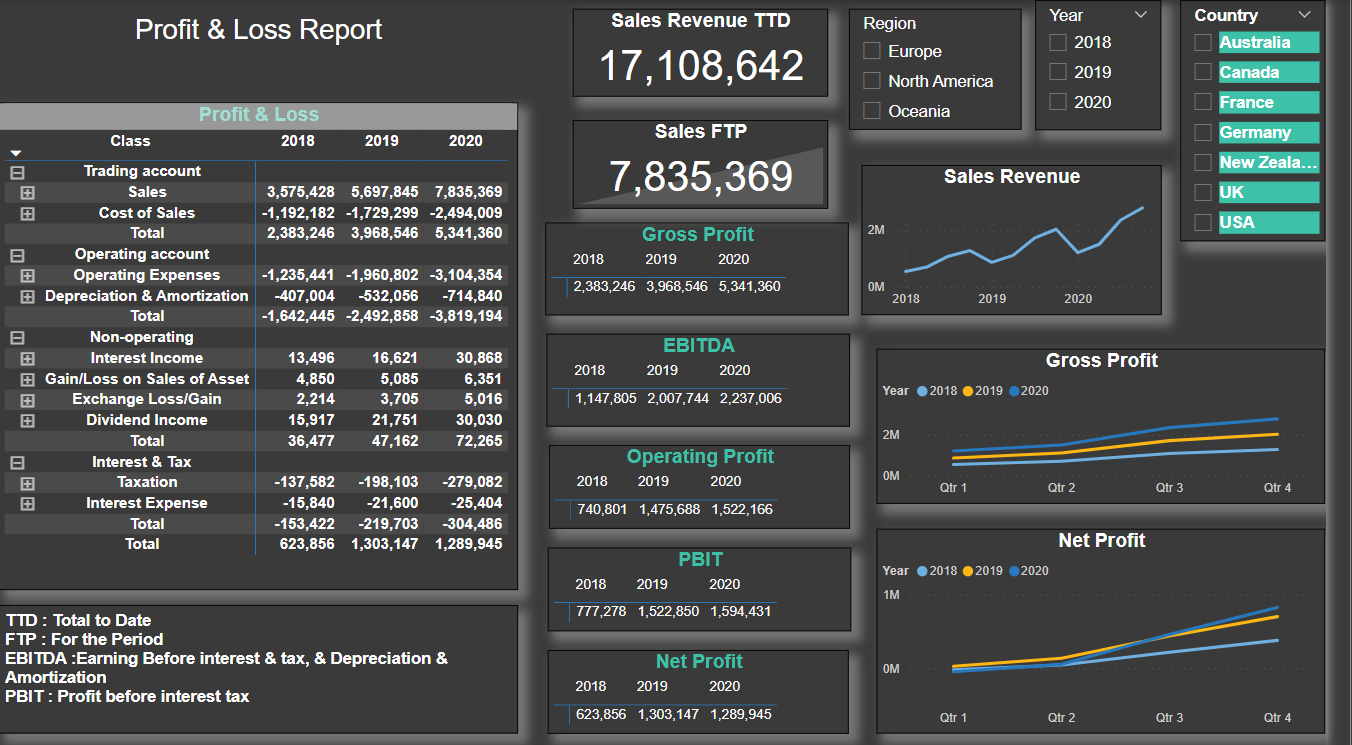

The dashboard page shown, as its layout file describes it:
{"tool":"powerbi","page":{"name":"P&L","canvas":[1280,720],"ordinal":1},"visuals":[{"type":"pivotTable","title":"Profit & Loss","fields":{"Rows":["tbl_ChartofAccounts.Class","tbl_ChartofAccounts.SubClass","tbl_ChartofAccounts.SubClass2","tbl_ChartofAccounts.Account"],"Columns":["tbl_Calendar.Date.Variation.Date Hierarchy.Year","tbl_Calendar.Date.Variation.Date Hierarchy.Quarter","tbl_Calendar.Date.Variation.Date Hierarchy.Month","tbl_Calendar.Date.Variation.Date Hierarchy.Day"],"Values":["All Measures.Total Amount by P&L"]},"box":[0,98.9,500.5,470.4],"z":0},{"type":"slicer","fields":{"Values":["tbl_territory.Country"]},"box":[1139.3,0,139.8,233.1],"z":1000},{"type":"slicer","fields":{"Values":["tbl_territory.Region"]},"box":[820.1,8.4,166.4,117],"z":2000},{"type":"pivotTable","title":"Gross Profit","fields":{"Values":["All Measures.Total Amount"],"Columns":["tbl_Calendar.Date.Variation.Date Hierarchy.Year","tbl_Calendar.Date.Variation.Date Hierarchy.Quarter","tbl_Calendar.Date.Variation.Date Hierarchy.Month","tbl_Calendar.Date.Variation.Date Hierarchy.Day"]},"box":[527,214.7,293.1,89.2],"z":3000},{"type":"pivotTable","title":"Operating Profit","fields":{"Values":["All Measures.Total Amount"],"Columns":["tbl_Calendar.Date.Variation.Date Hierarchy.Year","tbl_Calendar.Date.Variation.Date Hierarchy.Quarter","tbl_Calendar.Date.Variation.Date Hierarchy.Month","tbl_Calendar.Date.Variation.Date Hierarchy.Day"]},"box":[530.7,429.3,290.7,80.8],"z":4000},{"type":"pivotTable","title":"PBIT","fields":{"Values":["All Measures.Total Amount"],"Columns":["tbl_Calendar.Date.Variation.Date Hierarchy.Year","tbl_Calendar.Date.Variation.Date Hierarchy.Quarter","tbl_Calendar.Date.Variation.Date Hierarchy.Month","tbl_Calendar.Date.Variation.Date Hierarchy.Day"]},"box":[529.4,528.2,293.1,80.8],"z":5000},{"type":"pivotTable","title":"Net Profit","fields":{"Values":["All Measures.Total Amount"],"Columns":["tbl_Calendar.Date.Variation.Date Hierarchy.Year","tbl_Calendar.Date.Variation.Date Hierarchy.Quarter","tbl_Calendar.Date.Variation.Date Hierarchy.Month","tbl_Calendar.Date.Variation.Date Hierarchy.Day"]},"box":[529.4,627.1,290.7,80.8],"z":6000},{"type":"pivotTable","title":"EBITDA","fields":{"Values":["All Measures.Total Amount"],"Columns":["tbl_Calendar.Date.Variation.Date Hierarchy.Year","tbl_Calendar.Date.Variation.Date Hierarchy.Quarter","tbl_Calendar.Date.Variation.Date Hierarchy.Month","tbl_Calendar.Date.Variation.Date Hierarchy.Day"]},"box":[528.2,322,293.1,89.2],"z":7000},{"type":"card","title":"Sales Revenue TTD","fields":{"Values":["All Measures.Total sales by Sales"]},"box":[553.6,8.4,246,84.4],"z":8000},{"type":"kpi","title":"Sales FTP ","fields":{"Indicator":["All Measures.Total sales by Sales"],"TrendLine":["tbl_Calendar.Date.Variation.Date Hierarchy.Year"]},"box":[553.6,115.8,246,85.6],"z":9000},{"type":"slicer","fields":{"Values":["tbl_Calendar.Year"]},"box":[999.8,0,121.8,125.4],"z":10000},{"type":"lineChart","title":"Sales Revenue","fields":{"Category":["tbl_Calendar.Date.Variation.Date Hierarchy.Year","tbl_Calendar.Date.Variation.Date Hierarchy.Quarter","tbl_Calendar.Date.Variation.Date Hierarchy.Month","tbl_Calendar.Date.Variation.Date Hierarchy.Day"],"Y":["All Measures.Total sales by Sales"]},"box":[832.2,159.2,289.4,144.7],"z":11000},{"type":"lineChart","title":"Gross Profit","fields":{"Category":["tbl_Calendar.Date.Variation.Date Hierarchy.Quarter","tbl_Calendar.Date.Variation.Date Hierarchy.Month","tbl_Calendar.Date.Variation.Date Hierarchy.Day"],"Y":["All Measures.Total sales by Sales"],"Series":["tbl_Calendar.Date.Variation.Date Hierarchy.Year"]},"box":[846.6,336.5,433,149.5],"z":12000},{"type":"lineChart","title":"Net Profit","fields":{"Category":["tbl_Calendar.Date.Variation.Date Hierarchy.Year","tbl_Calendar.Date.Variation.Date Hierarchy.Quarter","tbl_Calendar.Date.Variation.Date Hierarchy.Month","tbl_Calendar.Date.Variation.Date Hierarchy.Day"],"Y":["All Measures.Total Amount"],"Series":["tbl_Calendar.Date.Variation.Date Hierarchy.Year"]},"box":[846.6,510.2,433,197.8],"z":13000},{"type":"textbox","box":[0,8.4,500.5,50.7],"z":14000},{"type":"textbox","box":[0,583.7,500.5,124.2],"z":15000}]}

Visuals, with their boxes in screenshot pixels (x1, y1, x2, y2), scaled from the page's 1280x720 canvas onto the 1352x745 screenshot:
"Profit & Loss" pivotTable: (0, 102, 529, 589)
slicer - tbl_territory.Country: (1203, 0, 1351, 241)
slicer - tbl_territory.Region: (866, 9, 1042, 130)
"Gross Profit" pivotTable: (557, 222, 866, 314)
"Operating Profit" pivotTable: (561, 444, 868, 528)
"PBIT" pivotTable: (559, 547, 869, 630)
"Net Profit" pivotTable: (559, 649, 866, 732)
"EBITDA" pivotTable: (558, 333, 867, 425)
"Sales Revenue TTD" card: (585, 9, 845, 96)
"Sales FTP " kpi: (585, 120, 845, 208)
slicer - tbl_Calendar.Year: (1056, 0, 1185, 130)
"Sales Revenue" lineChart: (879, 165, 1185, 314)
"Gross Profit" lineChart: (894, 348, 1351, 503)
"Net Profit" lineChart: (894, 528, 1351, 733)
textbox: (0, 9, 529, 61)
textbox: (0, 604, 529, 732)
